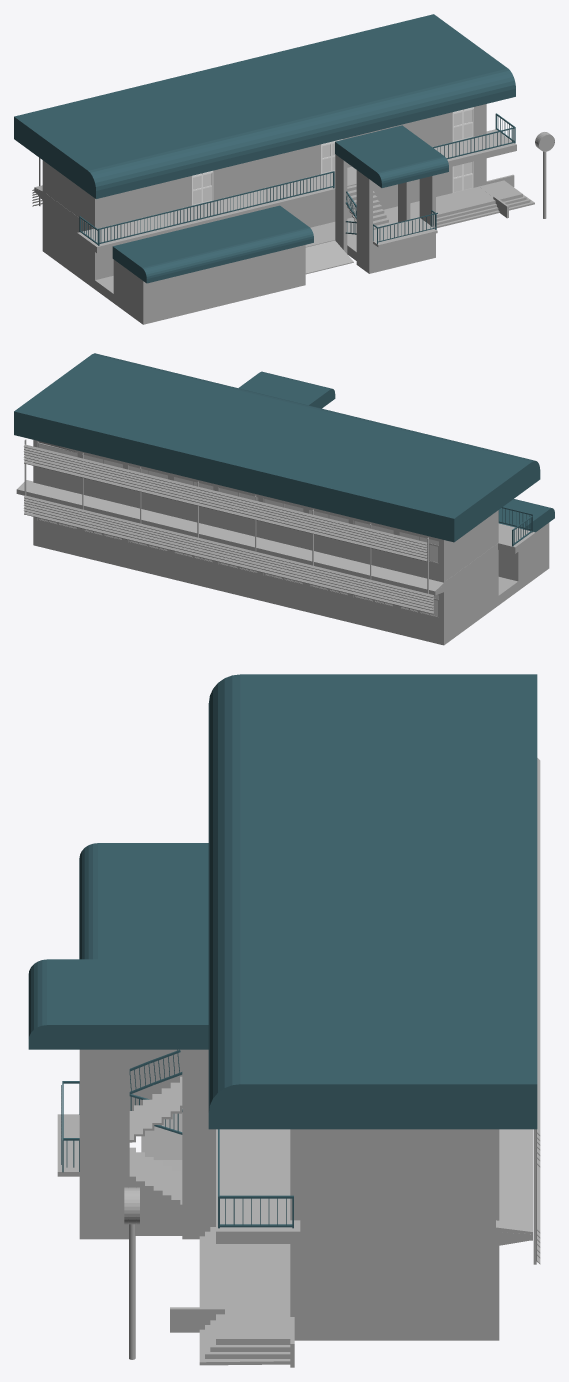
File: Electronic.glb
3 views of the same model, one above another, from view 1: azimuth 30°, elevation 25°; view 2: azimuth 150°, elevation 25°; view 3: azimuth 270°, elevation 25° (orthographic). The views are drawn at different scales.
Visible parts, largest first — view 1: Cube.093, Cube.095, Cube.103, Cube.102, Pilla.008, Cube.086, Cube.099, Cube.094, Pilla.009, Cube.104, Cube.096, door.020 (+7 smaller); view 2: Cube.093, frame out building.005, Cube.099, Cube.086, Pilla.009, Cube.095, Cube.102, Cube.103, Pilla.008, Pilla.007, window.114; view 3: Cube.093, Cube.095, Cube.099, Cube.086, Cube.103, Pilla.008, frame out building.005, Cube.094, Pilla.009, Pilla.007, Cube.102, Cylinder.001 (+3 smaller).
Boxes of the visible parts, x1=… form: Cube.093: x1=14, y1=14, x2=515, y2=198; Cube.095: x1=95, y1=125, x2=534, y2=302; Cube.103: x1=112, y1=205, x2=313, y2=283; Cube.102: x1=113, y1=245, x2=305, y2=324; Pilla.008: x1=77, y1=129, x2=516, y2=253; Cube.086: x1=99, y1=105, x2=482, y2=228; Cube.099: x1=45, y1=159, x2=482, y2=287; Cube.094: x1=347, y1=184, x2=437, y2=264; Pilla.009: x1=42, y1=104, x2=486, y2=289; Cube.104: x1=98, y1=171, x2=334, y2=245; Cube.096: x1=305, y1=240, x2=353, y2=274; door.020: x1=192, y1=170, x2=213, y2=205; Cube.093: x1=14, y1=353, x2=540, y2=542; frame out building.005: x1=16, y1=439, x2=444, y2=613; Cube.099: x1=37, y1=484, x2=495, y2=644; Cube.086: x1=37, y1=441, x2=439, y2=581; Pilla.009: x1=33, y1=440, x2=498, y2=645; Cube.095: x1=238, y1=371, x2=518, y2=604; Cube.102: x1=498, y1=523, x2=549, y2=590; Cube.103: x1=498, y1=499, x2=554, y2=532; Pilla.008: x1=498, y1=523, x2=535, y2=553; Pilla.007: x1=446, y1=543, x2=498, y2=589; window.114: x1=399, y1=531, x2=439, y2=564; Cube.093: x1=208, y1=674, x2=537, y2=1129; Cube.095: x1=28, y1=959, x2=290, y2=1365; Cube.099: x1=300, y1=1237, x2=489, y2=1340; Cube.086: x1=300, y1=1129, x2=489, y2=1220; Cube.103: x1=79, y1=843, x2=208, y2=959; Pilla.008: x1=216, y1=1129, x2=300, y2=1243; frame out building.005: x1=496, y1=758, x2=540, y2=1264; Cube.094: x1=57, y1=1076, x2=182, y2=1218; Pilla.009: x1=290, y1=1129, x2=499, y2=1340; Pilla.007: x1=300, y1=1220, x2=489, y2=1237; Cube.102: x1=129, y1=1049, x2=182, y2=1110; Cylinder.001: x1=124, y1=1187, x2=139, y2=1359.
Bounding box in the file's own units: 40.76 × 11.76 × 20.59.
